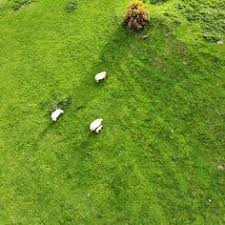sheep: (88, 118, 107, 133), (50, 108, 68, 122), (93, 69, 107, 82), (95, 124, 103, 133)
